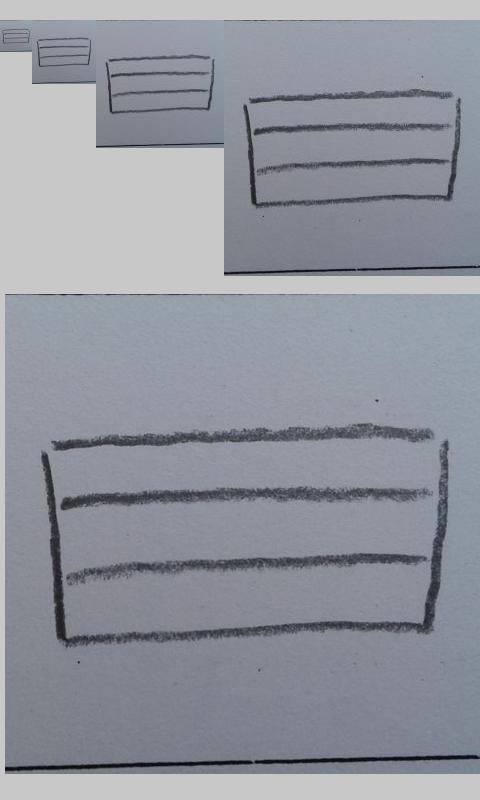list_view: (42, 424, 453, 645), (241, 86, 464, 210), (106, 54, 215, 115), (36, 37, 92, 68), (2, 28, 31, 44)
